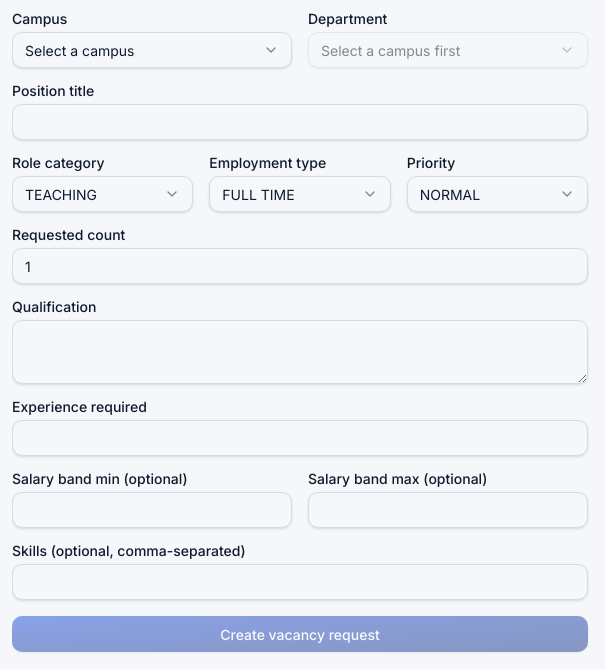
Test: VacancyRequestForm (create mode) › only offers departments belonging to the selected campus
This screenshot has width=605, height=669.
Click the dropdown labelled "Select a campus": (80, 50) [12,32,292,68]
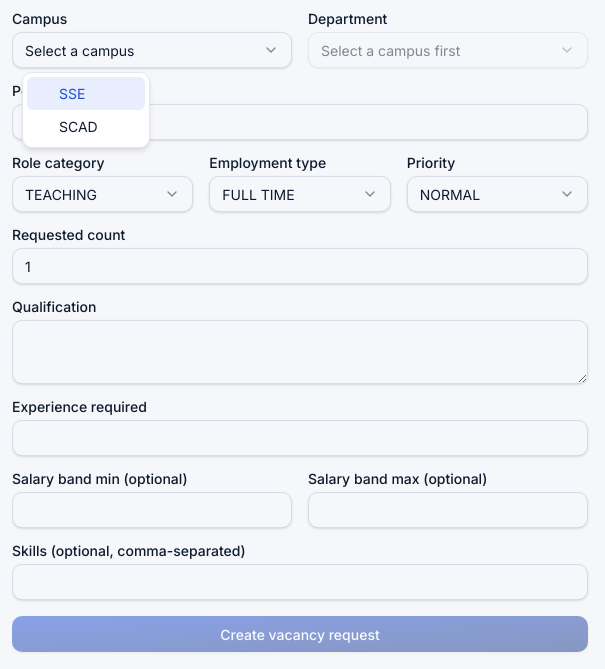
Click the option "SSE": (86, 94) [27,77,145,110]
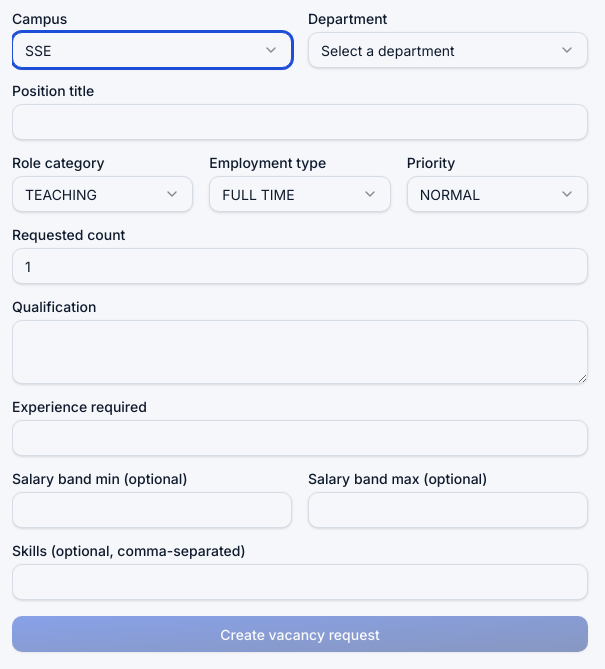
Click the dropdown labelled "Select a department": (448, 50) [308,32,588,68]
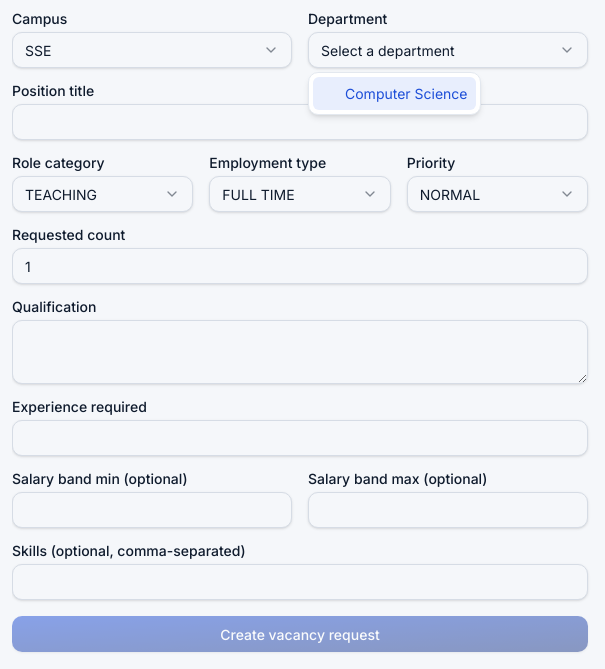
Result: the option "Computer Science" is shown at [313,77,476,110]
